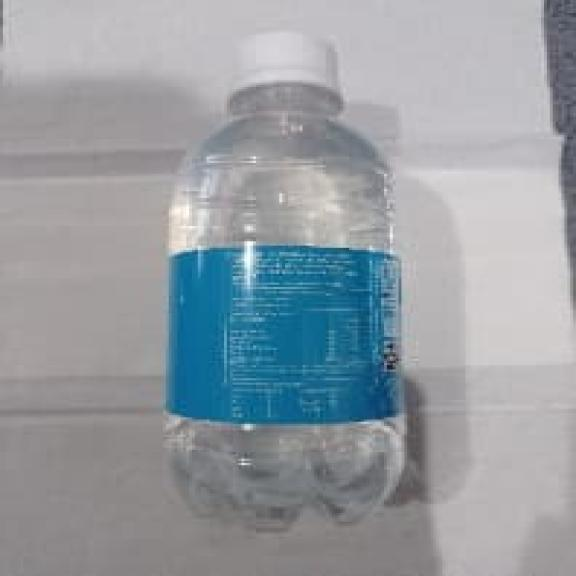Plastik: (164, 31, 405, 527)
